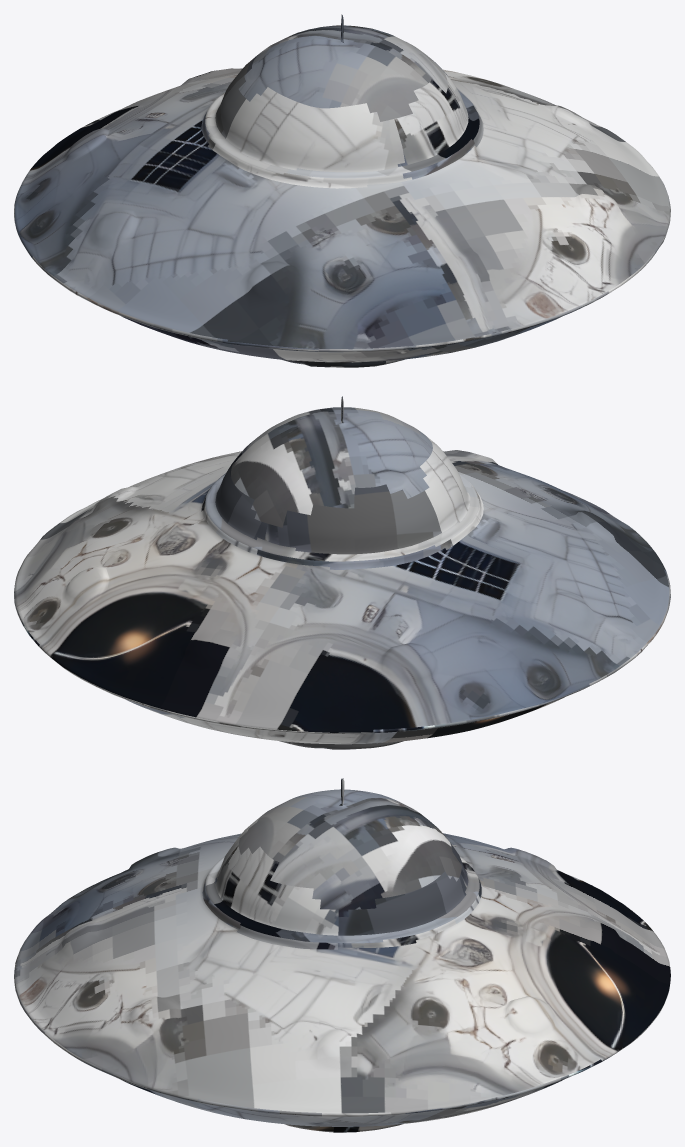
Rendered from nav todohecho.fbx.
3 views of the same model, one above another, from view 1: azimuth 30°, elevation 25°; view 2: azimuth 150°, elevation 25°; view 3: azimuth 270°, elevation 25° (orthographic).
Visible parts, largest first — view 1: model; view 2: model; view 3: model.
Part boxes in pixels (bbox=[...]): model: bbox=[14, 14, 670, 367]; model: bbox=[14, 396, 670, 749]; model: bbox=[14, 778, 670, 1132].
Bounding box in the file's own units: 190 × 99.01 × 190.
